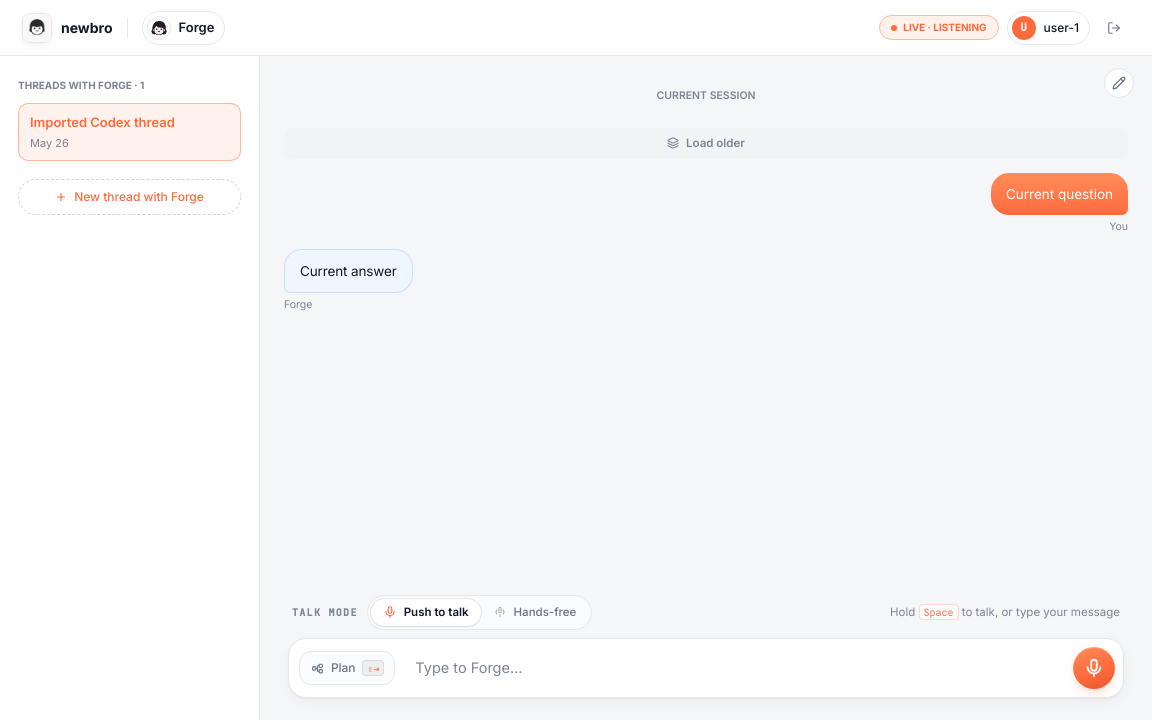
Scenario: Newbro artboard shell › loads older selected timeline turns from the backend
expect the text "Current answer" is shown: met, box [300,261,397,281]
What coordinates should you click on to do the following:
click the button "Load older"
I would click on:
 (706, 143)
Its box is [284,128,1128,159].
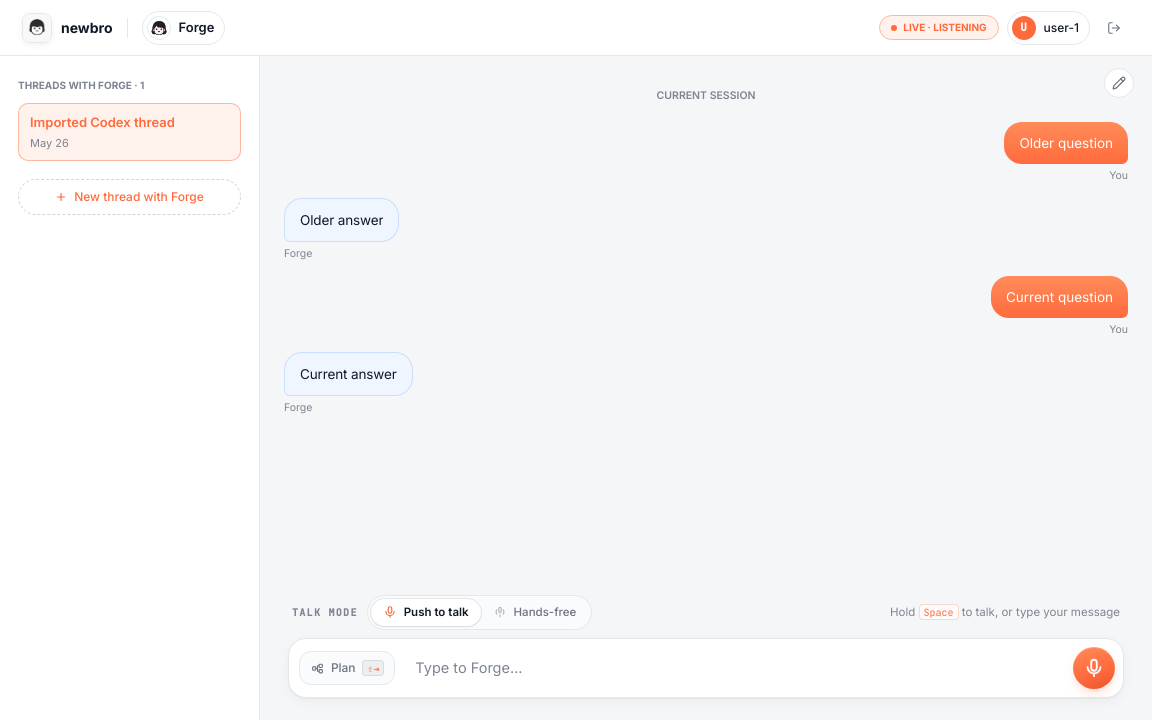
expect the text "Older answer" is shown: met, box [300,210,383,230]
